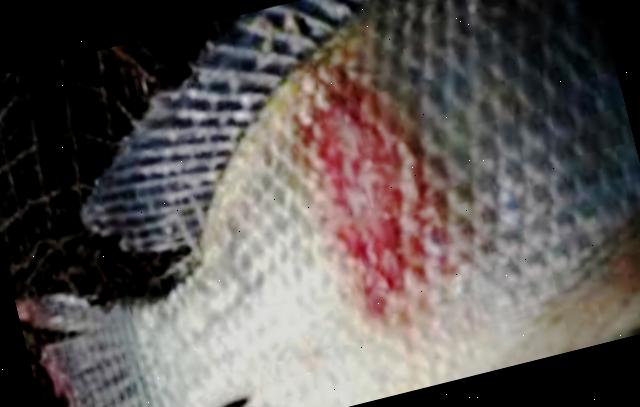Tilapia Lake Virus -TiLV-: (15, 0, 640, 407), (16, 0, 640, 407)
